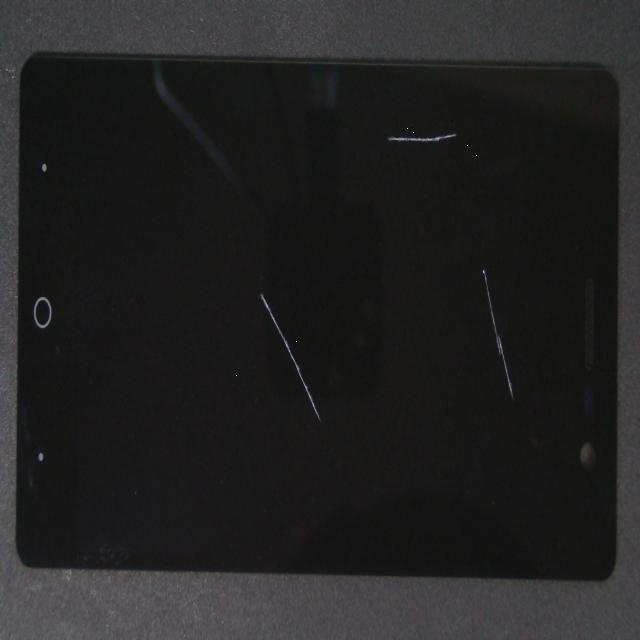scratch: (155, 220, 468, 640), (259, 109, 640, 373), (218, 48, 602, 180)
